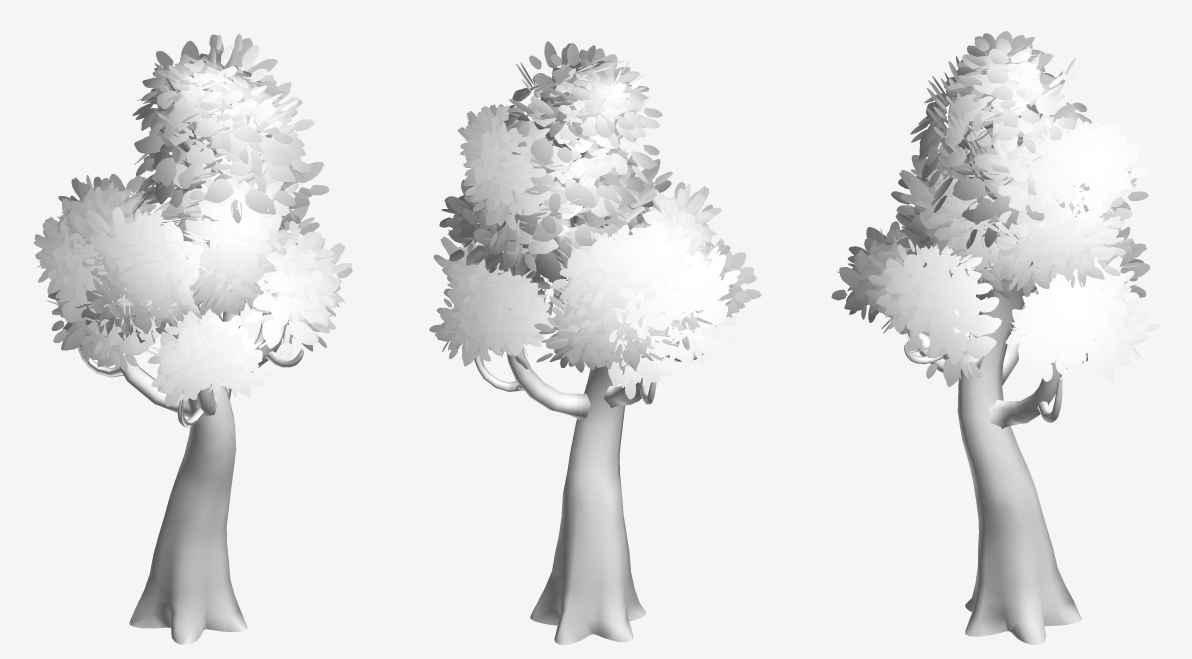
3 renders of one model, left to right at view 1: azimuth 30°, elevation 25°; view 2: azimuth 150°, elevation 25°; view 3: azimuth 270°, elevation 25°, orthographic. The views are drawn at different scales.
Parts seen in each view (by area): view 1: CommonTree_2; view 2: CommonTree_2; view 3: CommonTree_2.
Boxes of the visible parts, x1,y1,x2,y2 form: CommonTree_2: [33, 34, 352, 644]; CommonTree_2: [429, 41, 761, 644]; CommonTree_2: [831, 31, 1159, 644].
Size of the model in its own units: 4.46 by 7.64 by 4.28.
2 materials, 1 textured.
